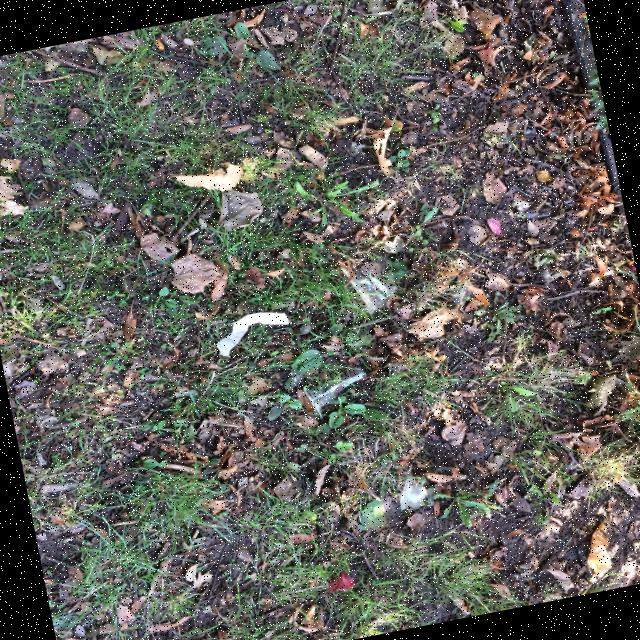Disposable plastic cup: (305, 367, 366, 418), (341, 267, 397, 313)
Normal paper: (217, 314, 290, 357)
Other plastic bottle: (402, 479, 429, 509)
